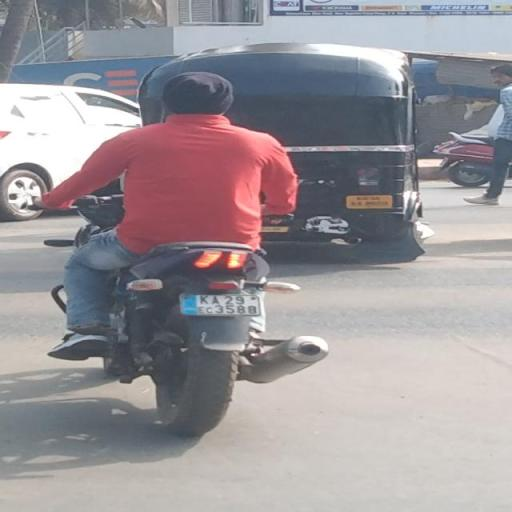bike: (18, 66, 339, 440)
numberplate: (184, 290, 261, 318)
withouthelmet: (168, 73, 230, 120)
